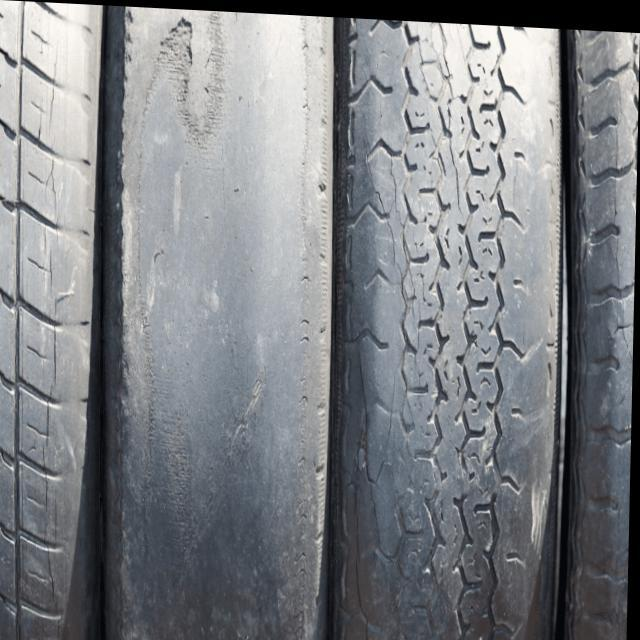Flat spots: (135, 12, 325, 640), (502, 12, 576, 640)
Non-defective: (0, 0, 56, 640)
